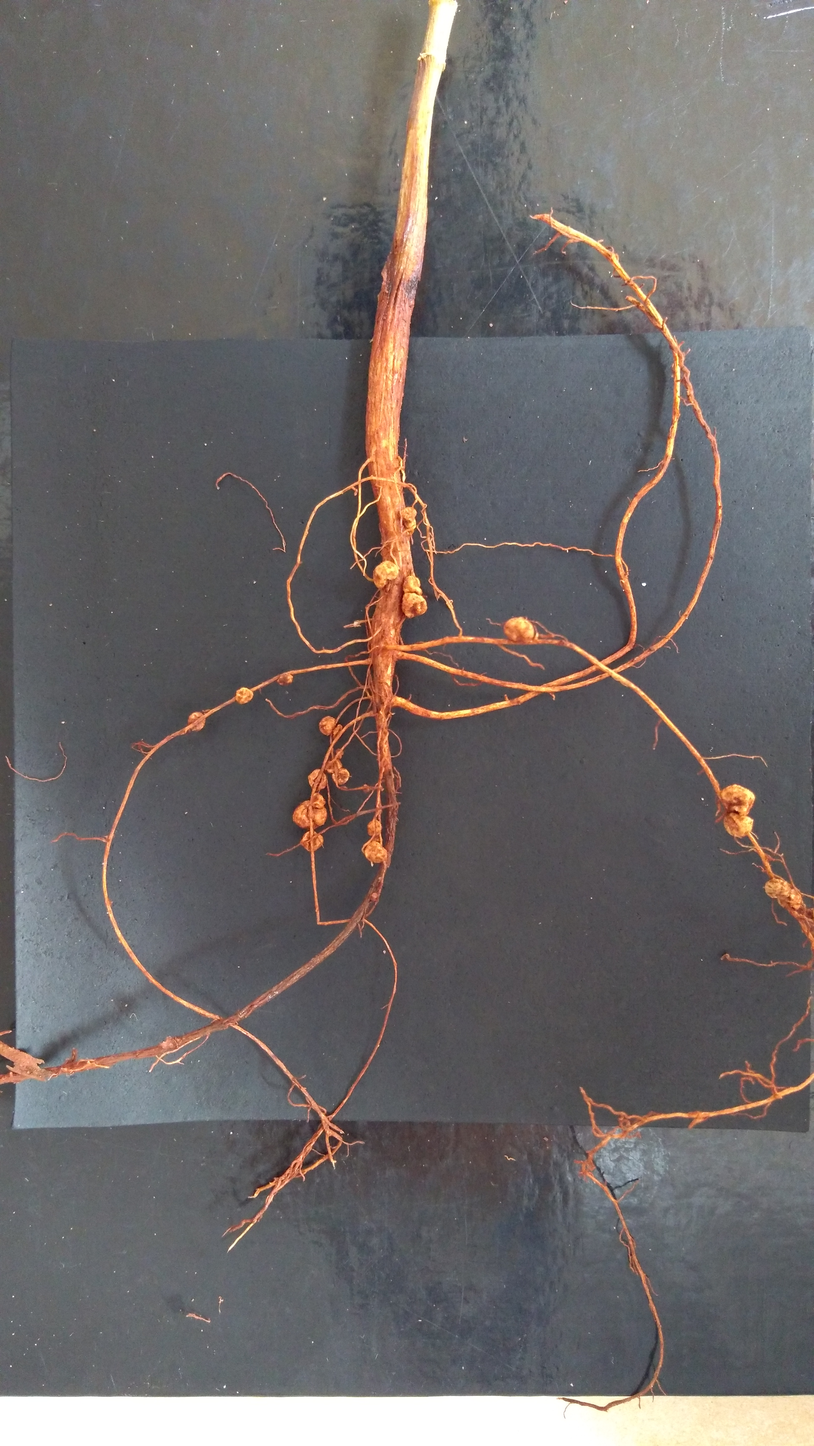nodule: (717, 781, 758, 817), (290, 798, 328, 831), (501, 614, 537, 642), (721, 812, 757, 839), (399, 590, 428, 621), (371, 559, 400, 590), (297, 830, 326, 853), (364, 839, 389, 864), (763, 878, 791, 900), (400, 574, 424, 597), (787, 887, 807, 913), (306, 768, 328, 791), (187, 710, 207, 733), (234, 686, 254, 706), (319, 714, 336, 737), (331, 766, 351, 785), (366, 818, 383, 838), (309, 791, 326, 810), (275, 672, 295, 688), (324, 758, 344, 774), (399, 506, 418, 522), (331, 723, 344, 739), (401, 517, 417, 529)
